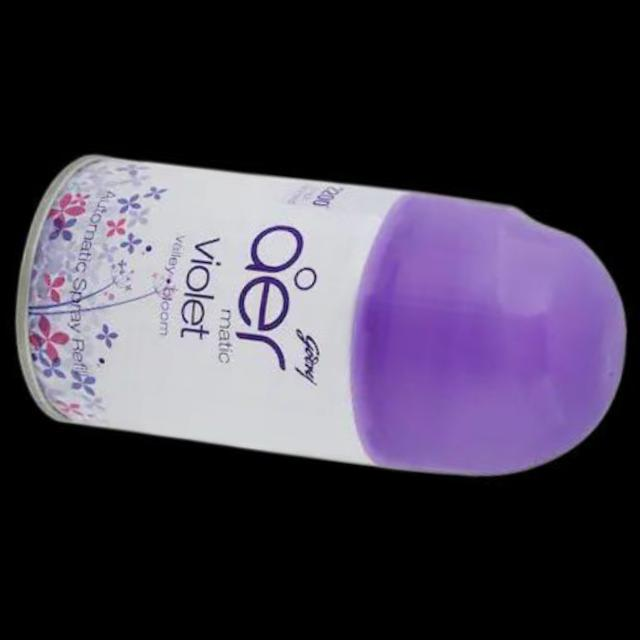Aer Matic Violet Valley Bloom Automatic Spray Diffuser Refill 225 ml: (0, 128, 640, 496)
